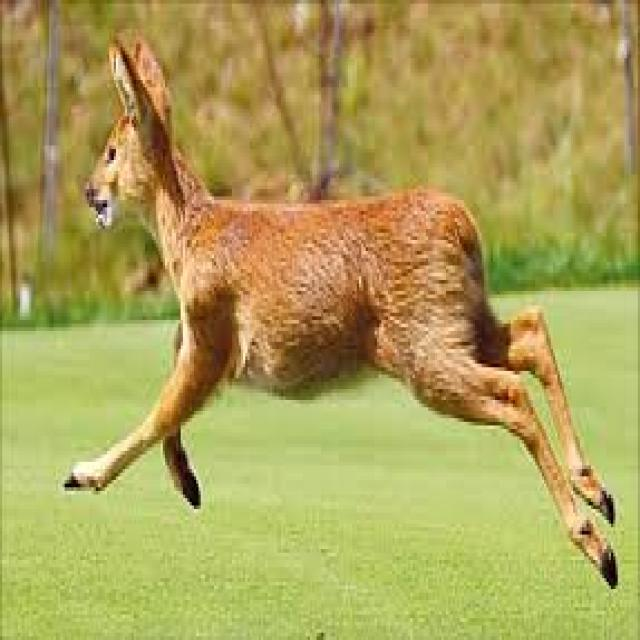elk: (59, 23, 625, 588)
